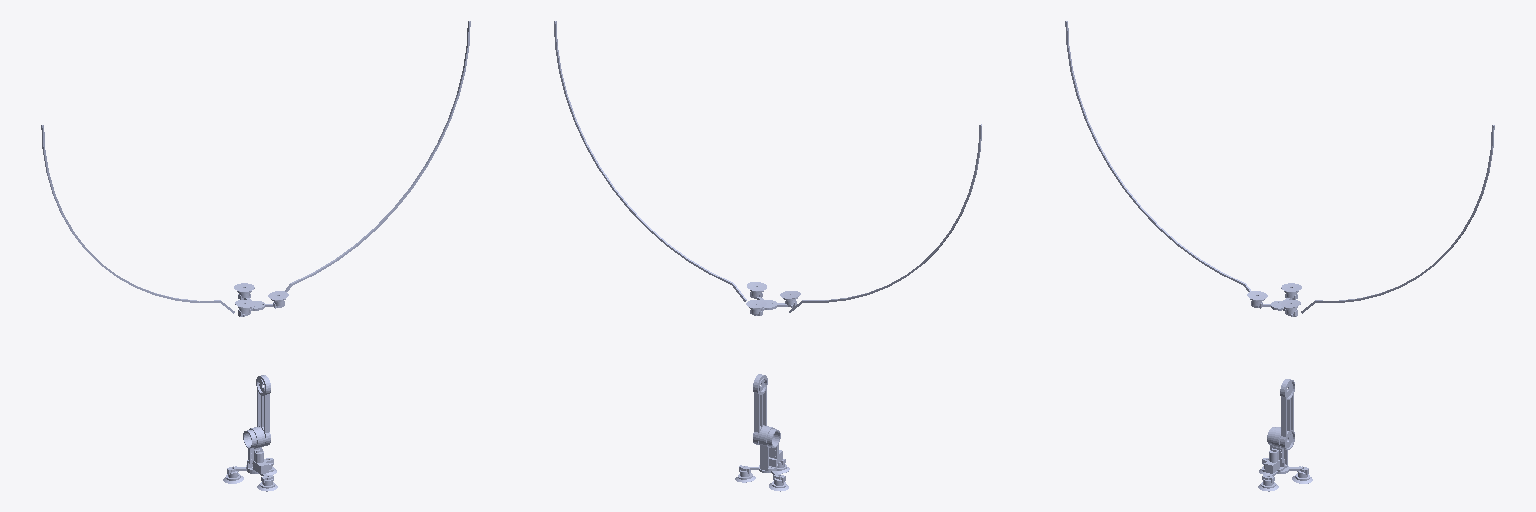
URDF robot description (bigmama0403):
<?xml version="1.0" encoding="utf-8" ?>
<!-- This URDF was automatically created by SolidWorks to URDF Exporter! Originally created by Stephen Brawner ([email redacted]) 
     Commit Version: 1.6.0-1-g15f4949  Build Version: 1.6.7594.29634
     For more information, please see http://wiki.ros.org/sw_urdf_exporter -->
<robot name="bigmama0403">
    <link name="dummy" />
    <link name="Link_0">
        
<inertial>
            <origin xyz="-0.0036007 -0.0088372 0.029242" rpy="0 0 0" />
            <mass value="0.81093" />
            <inertia ixx="0.0014988" ixy="-1.2947E-05" ixz="1.4235E-05" iyy="0.0014451" iyz="-7.3423E-06" izz="0.0010295" />
        </inertial>

        <visual>
            <origin xyz="0 0 0" rpy="0 0 0" />
            <geometry>
                <mesh filename="package://bigmama0403/meshes/Link_0.STL" />
            </geometry>
            <material name="">
                <color rgba="0.79216 0.81961 0.93333 1" />
            </material>
        </visual>
        <collision>
            <origin xyz="0 0 0" rpy="0 0 0" />
            <geometry>
                <mesh filename="package://bigmama0403/meshes/Link_0.STL" />
            </geometry>
        </collision>
    </link>
    <joint name="dummy_joint" type="fixed">
        <parent link="dummy" />
        <child link="Link_0" />
    </joint>
    <link name="Link_1">
        
<inertial>
            <origin xyz="3.3307E-16 0.12 0.014813" rpy="0 0 0" />
            <mass value="0.28238" />
            <inertia ixx="0.0027445" ixy="2.8253E-20" ixz="-6.9315E-21" iyy="0.00019508" iyz="1.5908E-20" izz="0.0029159" />
        </inertial>

        <visual>
            <origin xyz="0 0 0" rpy="0 0 0" />
            <geometry>
                <mesh filename="package://bigmama0403/meshes/Link_1.STL" />
            </geometry>
            <material name="">
                <color rgba="0.79216 0.81961 0.93333 1" />
            </material>
        </visual>
        <collision>
            <origin xyz="0 0 0" rpy="0 0 0" />
            <geometry>
                <mesh filename="package://bigmama0403/meshes/Link_1.STL" />
            </geometry>
        </collision>
    </link>
    <joint name="Joint_1" type="revolute">
        <origin xyz="0.022 0 0.155" rpy="1.5708 0 1.5708" />
        <parent link="Link_0" />
        <child link="Link_1" />
        <axis xyz="0 0 -1" />
        <limit lower="-3.14" upper="3.14" effort="100" velocity="0.05" />
    </joint>
    <link name="Link_2">
        
<inertial>
            <origin xyz="5.5511E-15 0.098184 -0.051898" rpy="0 0 0" />
            <mass value="0.34516" />
            <inertia ixx="0.0036332" ixy="3.2539E-18" ixz="-4.5224E-19" iyy="0.00034405" iyz="0.00024115" izz="0.0037914" />
        </inertial>

        <visual>
            <origin xyz="0 0 0" rpy="0 0 0" />
            <geometry>
                <mesh filename="package://bigmama0403/meshes/Link_2.STL" />
            </geometry>
            <material name="">
                <color rgba="0.79216 0.81961 0.93333 1" />
            </material>
        </visual>
        <collision>
            <origin xyz="0 0 0" rpy="0 0 0" />
            <geometry>
                <mesh filename="package://bigmama0403/meshes/Link_2.STL" />
            </geometry>
        </collision>
    </link>
    <joint name="Joint_2" type="revolute">
        <origin xyz="0 0.24 0" rpy="0 0 0" />
        <parent link="Link_1" />
        <child link="Link_2" />
        <axis xyz="0 0 -1" />
        <limit lower="-3.14" upper="3.14" effort="100" velocity="0.05" />
    </joint>
    <link name="Link_3">
        
<inertial>
            <origin xyz="0.018256 0.077688 0.029219" rpy="0 0 0" />
            <mass value="0.40524" />
            <inertia ixx="0.0010067" ixy="-1.0212E-05" ixz="-1.2958E-05" iyy="0.00027741" iyz="1.4235E-05" izz="0.0011025" />
        </inertial>

        <visual>
            <origin xyz="0 0 0" rpy="0 0 0" />
            <geometry>
                <mesh filename="package://bigmama0403/meshes/Link_3.STL" />
            </geometry>
            <material name="">
                <color rgba="0.79216 0.81961 0.93333 1" />
            </material>
        </visual>
        <collision>
            <origin xyz="0 0 0" rpy="0 0 0" />
            <geometry>
                <mesh filename="package://bigmama0403/meshes/Link_3.STL" />
            </geometry>
        </collision>
    </link>
    <joint name="Joint_3" type="revolute">
        <origin xyz="0 0.24 -0.0442" rpy="0 0 0" />
        <parent link="Link_2" />
        <child link="Link_3" />
        <axis xyz="0 0 1" />
        <limit lower="-3.14" upper="3.14" effort="100" velocity="0.05" />
    </joint>
    <link name="Link_4">
        
<inertial>
            <origin xyz="-0.0005711 -1.5326E-05 -0.028807" rpy="0 0 0" />
            <mass value="0.40561" />
            <inertia ixx="0.00043808" ixy="1.3288E-08" ixz="-2.8556E-06" iyy="0.00039591" iyz="7.1385E-09" izz="0.00075202" />
        </inertial>

        <visual>
            <origin xyz="0 0 0" rpy="0 0 0" />
            <geometry>
                <mesh filename="package://bigmama0403/meshes/Link_4.STL" />
            </geometry>
            <material name="">
                <color rgba="0.79216 0.81961 0.93333 1" />
            </material>
        </visual>
        <collision>
            <origin xyz="0 0 0" rpy="0 0 0" />
            <geometry>
                <mesh filename="package://bigmama0403/meshes/Link_4.STL" />
            </geometry>
        </collision>
    </link>
    <joint name="Joint_4" type="revolute">
        <origin xyz="0 0.145 0.022" rpy="1.5708 0 0" />
        <parent link="Link_3" />
        <child link="Link_4" />
        <axis xyz="0 0 -1" />
        <limit lower="-1E-05" upper="1E-05" effort="1E-05" velocity="1E-05" />
    </joint>
    <link name="Link_innerfinger">
        
<inertial>
            <origin xyz="-0.81911 0.45093 -0.005" rpy="0 0 0" />
            <mass value="0.14055" />
            <inertia ixx="0.014979" ixy="0.012927" ixz="8.9759E-17" iyy="0.012874" iyz="-1.0617E-16" izz="0.027851" />
        </inertial>

        <visual>
            <origin xyz="0 0 0" rpy="0 0 0" />
            <geometry>
                <mesh filename="package://bigmama0403/meshes/Link_innerfinger.STL" />
            </geometry>
            <material name="">
                <color rgba="0.79216 0.81961 0.93333 1" />
            </material>
        </visual>
        <collision>
            <origin xyz="0 0 0" rpy="0 0 0" />
            <geometry>
                <mesh filename="package://bigmama0403/meshes/Link_innerfinger.STL" />
            </geometry>
        </collision>
    </link>
    <joint name="Joint_innerfinger" type="revolute">
        <origin xyz="-0.005 0.11247 0" rpy="-1.5708 0 1.5708" />
        <parent link="Link_4" />
        <child link="Link_innerfinger" />
        <axis xyz="0 0 -1" />
        <limit lower="-3.14" upper="3.14" effort="50" velocity="0.01" />
    </joint>
    <link name="Link_exterfinger">
        
<inertial>
            <origin xyz="0.81911 0.45093 -0.005" rpy="0 0 0" />
            <mass value="0.14055" />
            <inertia ixx="0.014979" ixy="-0.012927" ixz="1.9401E-18" iyy="0.012874" iyz="-3.3361E-19" izz="0.027851" />
        </inertial>

        <visual>
            <origin xyz="0 0 0" rpy="0 0 0" />
            <geometry>
                <mesh filename="package://bigmama0403/meshes/Link_exterfinger.STL" />
            </geometry>
            <material name="">
                <color rgba="0.79216 0.81961 0.93333 1" />
            </material>
        </visual>
        <collision>
            <origin xyz="0 0 0" rpy="0 0 0" />
            <geometry>
                <mesh filename="package://bigmama0403/meshes/Link_exterfinger.STL" />
            </geometry>
        </collision>
    </link>
    <joint name="Joint_exterfinger" type="revolute">
        <origin xyz="-0.005 -0.11247 0" rpy="-1.5708 0 1.5708" />
        <parent link="Link_4" />
        <child link="Link_exterfinger" />
        <axis xyz="0 0 1" />
        <limit lower="-3.14" upper="3.14" effort="50" velocity="0.01" />
    </joint>
    
<transmission name="trans_Joint_1">
        <type>transmission_interface/SimpleTransmission</type>
        <joint name="Joint_1">
            <hardwareInterface>hardware_interface/PositionJointInterface</hardwareInterface>
        </joint>
        <actuator name="Joint_1_motor">
            <hardwareInterface>hardware_interface/PositionJointInterface</hardwareInterface>
            <mechanicalReduction>1</mechanicalReduction>
        </actuator>
    </transmission>
    <transmission name="trans_Joint_2">
        <type>transmission_interface/SimpleTransmission</type>
        <joint name="Joint_2">
            <hardwareInterface>hardware_interface/PositionJointInterface</hardwareInterface>
        </joint>
        <actuator name="Joint_2_motor">
            <hardwareInterface>hardware_interface/PositionJointInterface</hardwareInterface>
            <mechanicalReduction>1</mechanicalReduction>
        </actuator>
    </transmission>
    <transmission name="trans_Joint_3">
        <type>transmission_interface/SimpleTransmission</type>
        <joint name="Joint_3">
            <hardwareInterface>hardware_interface/PositionJointInterface</hardwareInterface>
        </joint>
        <actuator name="Joint_3_motor">
            <hardwareInterface>hardware_interface/PositionJointInterface</hardwareInterface>
            <mechanicalReduction>1</mechanicalReduction>
        </actuator>
    </transmission>
    <transmission name="trans_Joint_4">
        <type>transmission_interface/SimpleTransmission</type>
        <joint name="Joint_4">
            <hardwareInterface>hardware_interface/PositionJointInterface</hardwareInterface>
        </joint>
        <actuator name="Joint_4_motor">
            <hardwareInterface>hardware_interface/PositionJointInterface</hardwareInterface>
            <mechanicalReduction>1</mechanicalReduction>
        </actuator>
    </transmission>
    <transmission name="trans_Joint_innerfinger">
        <type>transmission_interface/SimpleTransmission</type>
        <joint name="Joint_innerfinger">
            <hardwareInterface>hardware_interface/PositionJointInterface</hardwareInterface>
        </joint>
        <actuator name="Joint_innerfinger_motor">
            <hardwareInterface>hardware_interface/PositionJointInterface</hardwareInterface>
            <mechanicalReduction>1</mechanicalReduction>
        </actuator>
    </transmission>
    <transmission name="trans_Joint_exterfinger">
        <type>transmission_interface/SimpleTransmission</type>
        <joint name="Joint_exterfinger">
            <hardwareInterface>hardware_interface/PositionJointInterface</hardwareInterface>
        </joint>
        <actuator name="Joint_exterfinger_motor">
            <hardwareInterface>hardware_interface/PositionJointInterface</hardwareInterface>
            <mechanicalReduction>1</mechanicalReduction>
        </actuator>
    </transmission>
    <gazebo reference="Link_4">
        <material>Gazebo/Yellow</material>
        <mu1>5</mu1>
        <mu2>5</mu2>
        <fdir1>1 0 0</fdir1>
    </gazebo>
    <gazebo reference="Link_innerfinger">
        <material>Gazebo/GreyTransparent</material>
        <mu1>1.0</mu1>
        <mu2>1.0</mu2>
        <fdir1>1 0 0</fdir1>        
    </gazebo>
    <gazebo reference="Link_exterfinger">
        <material>Gazebo/GreyTransparent</material>
        <mu1>1.0</mu1>
        <mu2>1.0</mu2>
        <fdir1>1 0 0</fdir1>
    </gazebo>
    <gazebo reference="Link_0">
        <transparency>0.9</transparency>
        <material>Gazebo/Green</material>
        <mu1>0.9</mu1>
        <mu2>0.9</mu2>
        <fdir1>1 0 0</fdir1>
    </gazebo>
    <gazebo>
     <plugin name="gazebo_grasp_fix" filename="libgazebo_grasp_fix.so">
           <arm>
             <arm_name>arm_bigmama</arm_name>
             <palm_link>Link_4</palm_link>
             <gripper_link>Link_innerfinger</gripper_link>
             <gripper_link>Link_exterfinger</gripper_link>
           </arm>
       <forces_angle_tolerance>90</forces_angle_tolerance>
       <update_rate>130</update_rate>
       <grip_count_threshold>2</grip_count_threshold>
       <max_grip_count>8</max_grip_count>
       <release_tolerance>0.01</release_tolerance>
       <disable_collisions_on_attach>true</disable_collisions_on_attach>
       <contact_topic>__default_topic__</contact_topic>
     </plugin>
    </gazebo>
    <gazebo>
        <plugin name="gazebo_ros_control" filename="libgazebo_ros_control.so">
            <robotNamespace>/</robotNamespace>
        </plugin>
    </gazebo>
</robot>

--- Facts derived from the render (not from the file) ---
3 views of the same robot in one strip: view 1: azimuth 30°, elevation 25°; view 2: azimuth 150°, elevation 25°; view 3: azimuth 330°, elevation 25° (orthographic).
Robot: bigmama0403 — 8 links, 7 joints (6 revolute, 1 fixed); root link dummy; default pose: every joint at zero.
Links seen in each view (by area): view 1: Link_0, Link_exterfinger, Link_4, Link_1, Link_innerfinger; view 2: Link_0, Link_exterfinger, Link_4, Link_1, Link_innerfinger; view 3: Link_0, Link_innerfinger, Link_1, Link_4, Link_exterfinger.
Boxes of the visible links, x1,y1,x2,y2 form: Link_0: (223, 426, 277, 491); Link_exterfinger: (285, 21, 470, 291); Link_4: (234, 283, 288, 316); Link_1: (256, 375, 270, 445); Link_innerfinger: (41, 125, 234, 313); Link_0: (735, 426, 789, 491); Link_exterfinger: (554, 21, 746, 301); Link_4: (746, 282, 800, 315); Link_1: (753, 374, 767, 444); Link_innerfinger: (789, 124, 981, 312); Link_0: (1258, 427, 1312, 491); Link_innerfinger: (1065, 21, 1250, 291); Link_1: (1280, 379, 1294, 449); Link_4: (1247, 283, 1301, 316); Link_exterfinger: (1301, 125, 1494, 313).
Size in the robot's own frame: 2.14 by 0.289 by 1.94 metres.
5 mesh visuals loaded from 7 distinct referenced files (5 binary STL); not drawn: 2 (reference not matched to a file when rendering).
